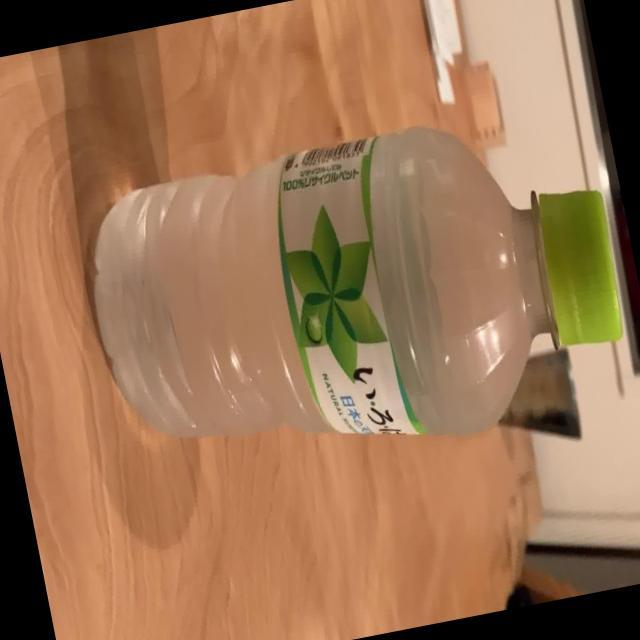good: (67, 85, 640, 501)
